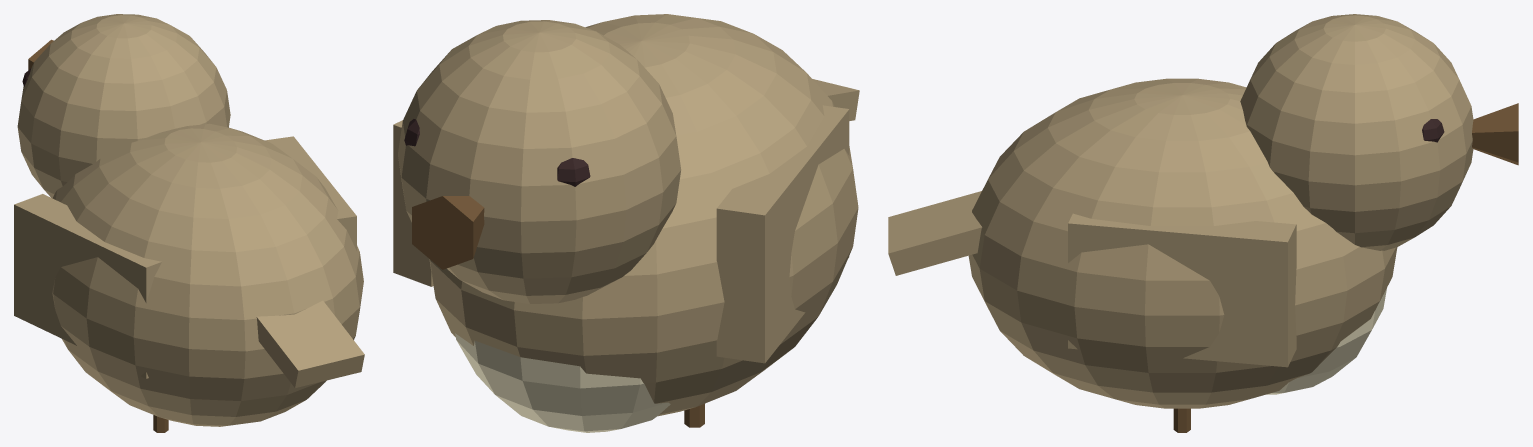
Rendered from bird_perched.glb.
3 renders of one model, left to right at view 1: azimuth 30°, elevation 25°; view 2: azimuth 150°, elevation 25°; view 3: azimuth 270°, elevation 25°, orthographic. The views are drawn at different scales.
Visible parts, largest first — view 1: bird_perched; view 2: bird_perched; view 3: bird_perched.
Boxes of the visible parts, x1,y1,x2,y2 form: bird_perched: [14, 14, 364, 432]; bird_perched: [393, 14, 859, 432]; bird_perched: [888, 14, 1518, 432].
Size of the model in its own units: 0.2103 by 0.245 by 0.3654.
